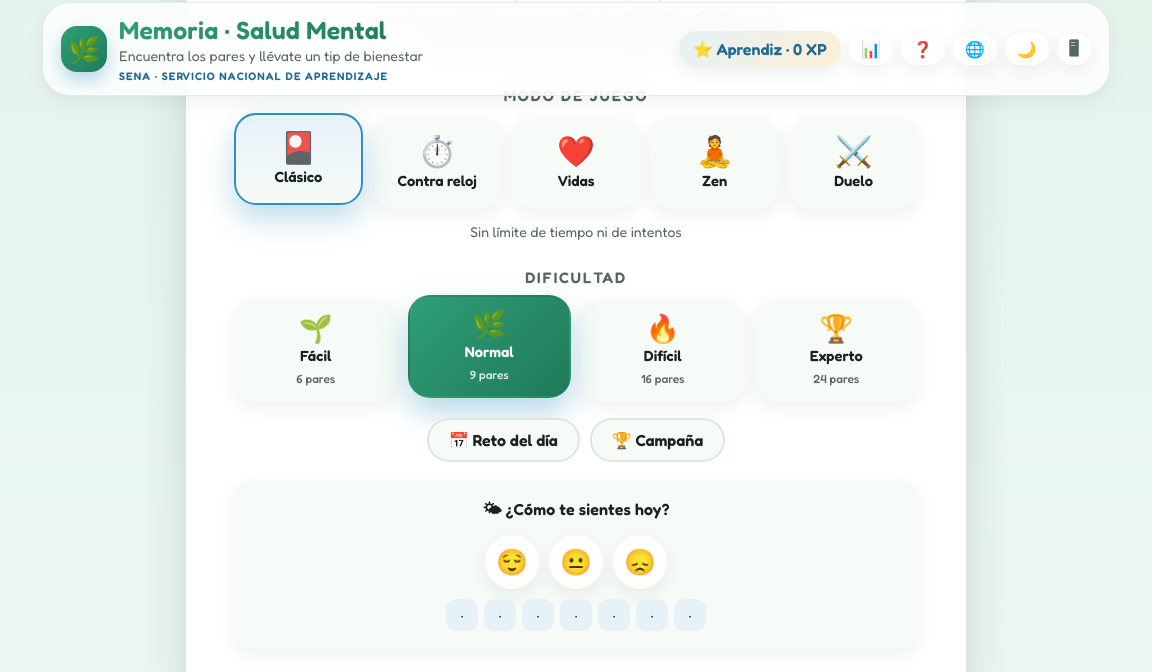
dificultad experto › inicia con 24 pares y 48 cartas
(page scrolled)
Click the button with aria-label "Experto · 24 pares".
click(836, 350)  # box left=754, top=299, right=918, bottom=402
(page scrolled)
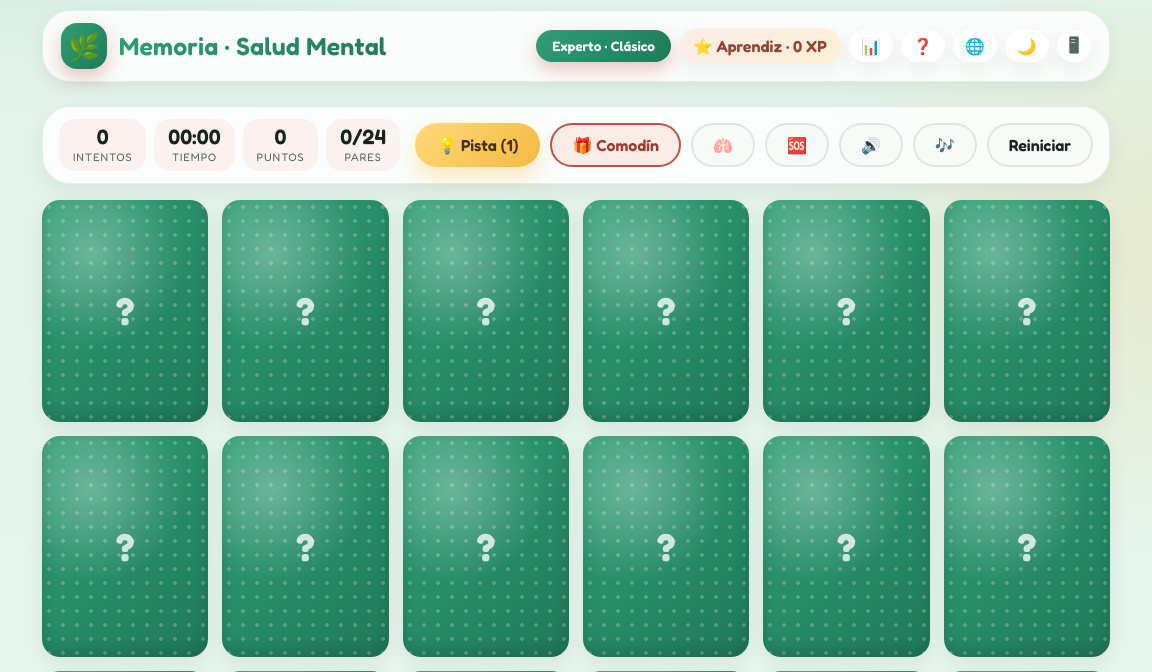
Now the text "0/24" is shown, box left=340, top=126, right=386, bottom=149
